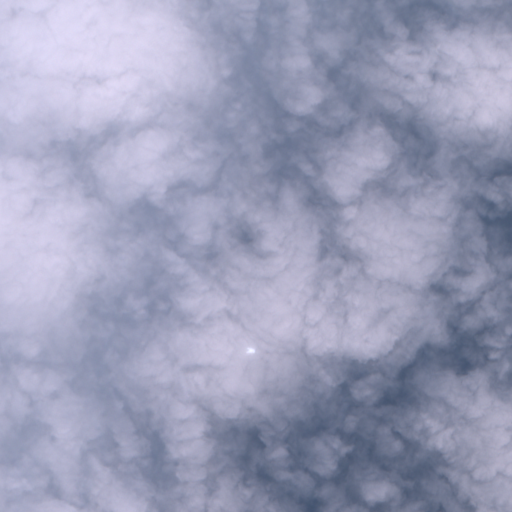Iceberg: (247, 348, 254, 352)
